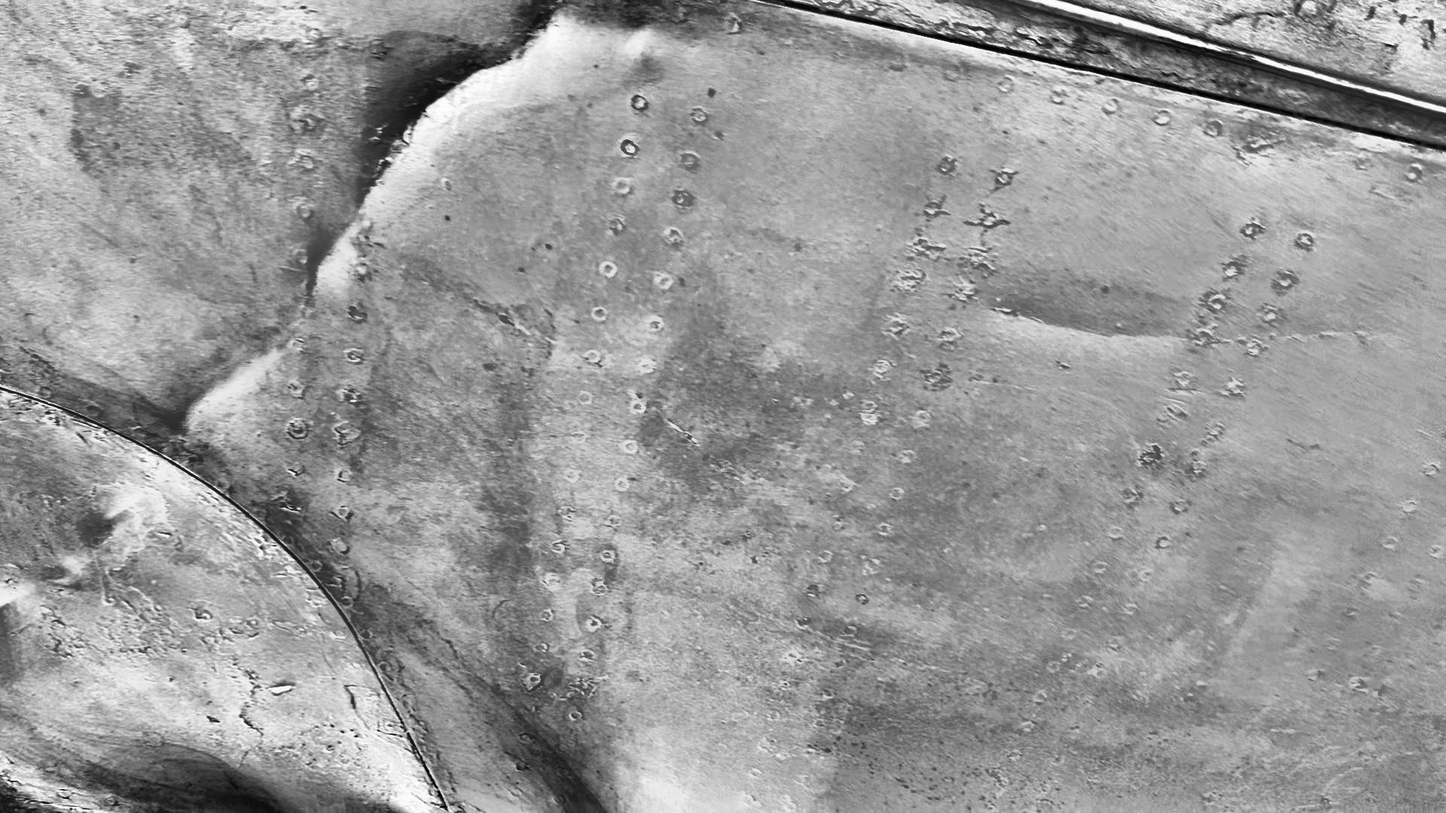dent: (362, 0, 563, 199), (166, 354, 260, 437), (1009, 311, 1175, 348), (305, 209, 360, 301), (87, 489, 147, 551), (0, 583, 30, 623)
